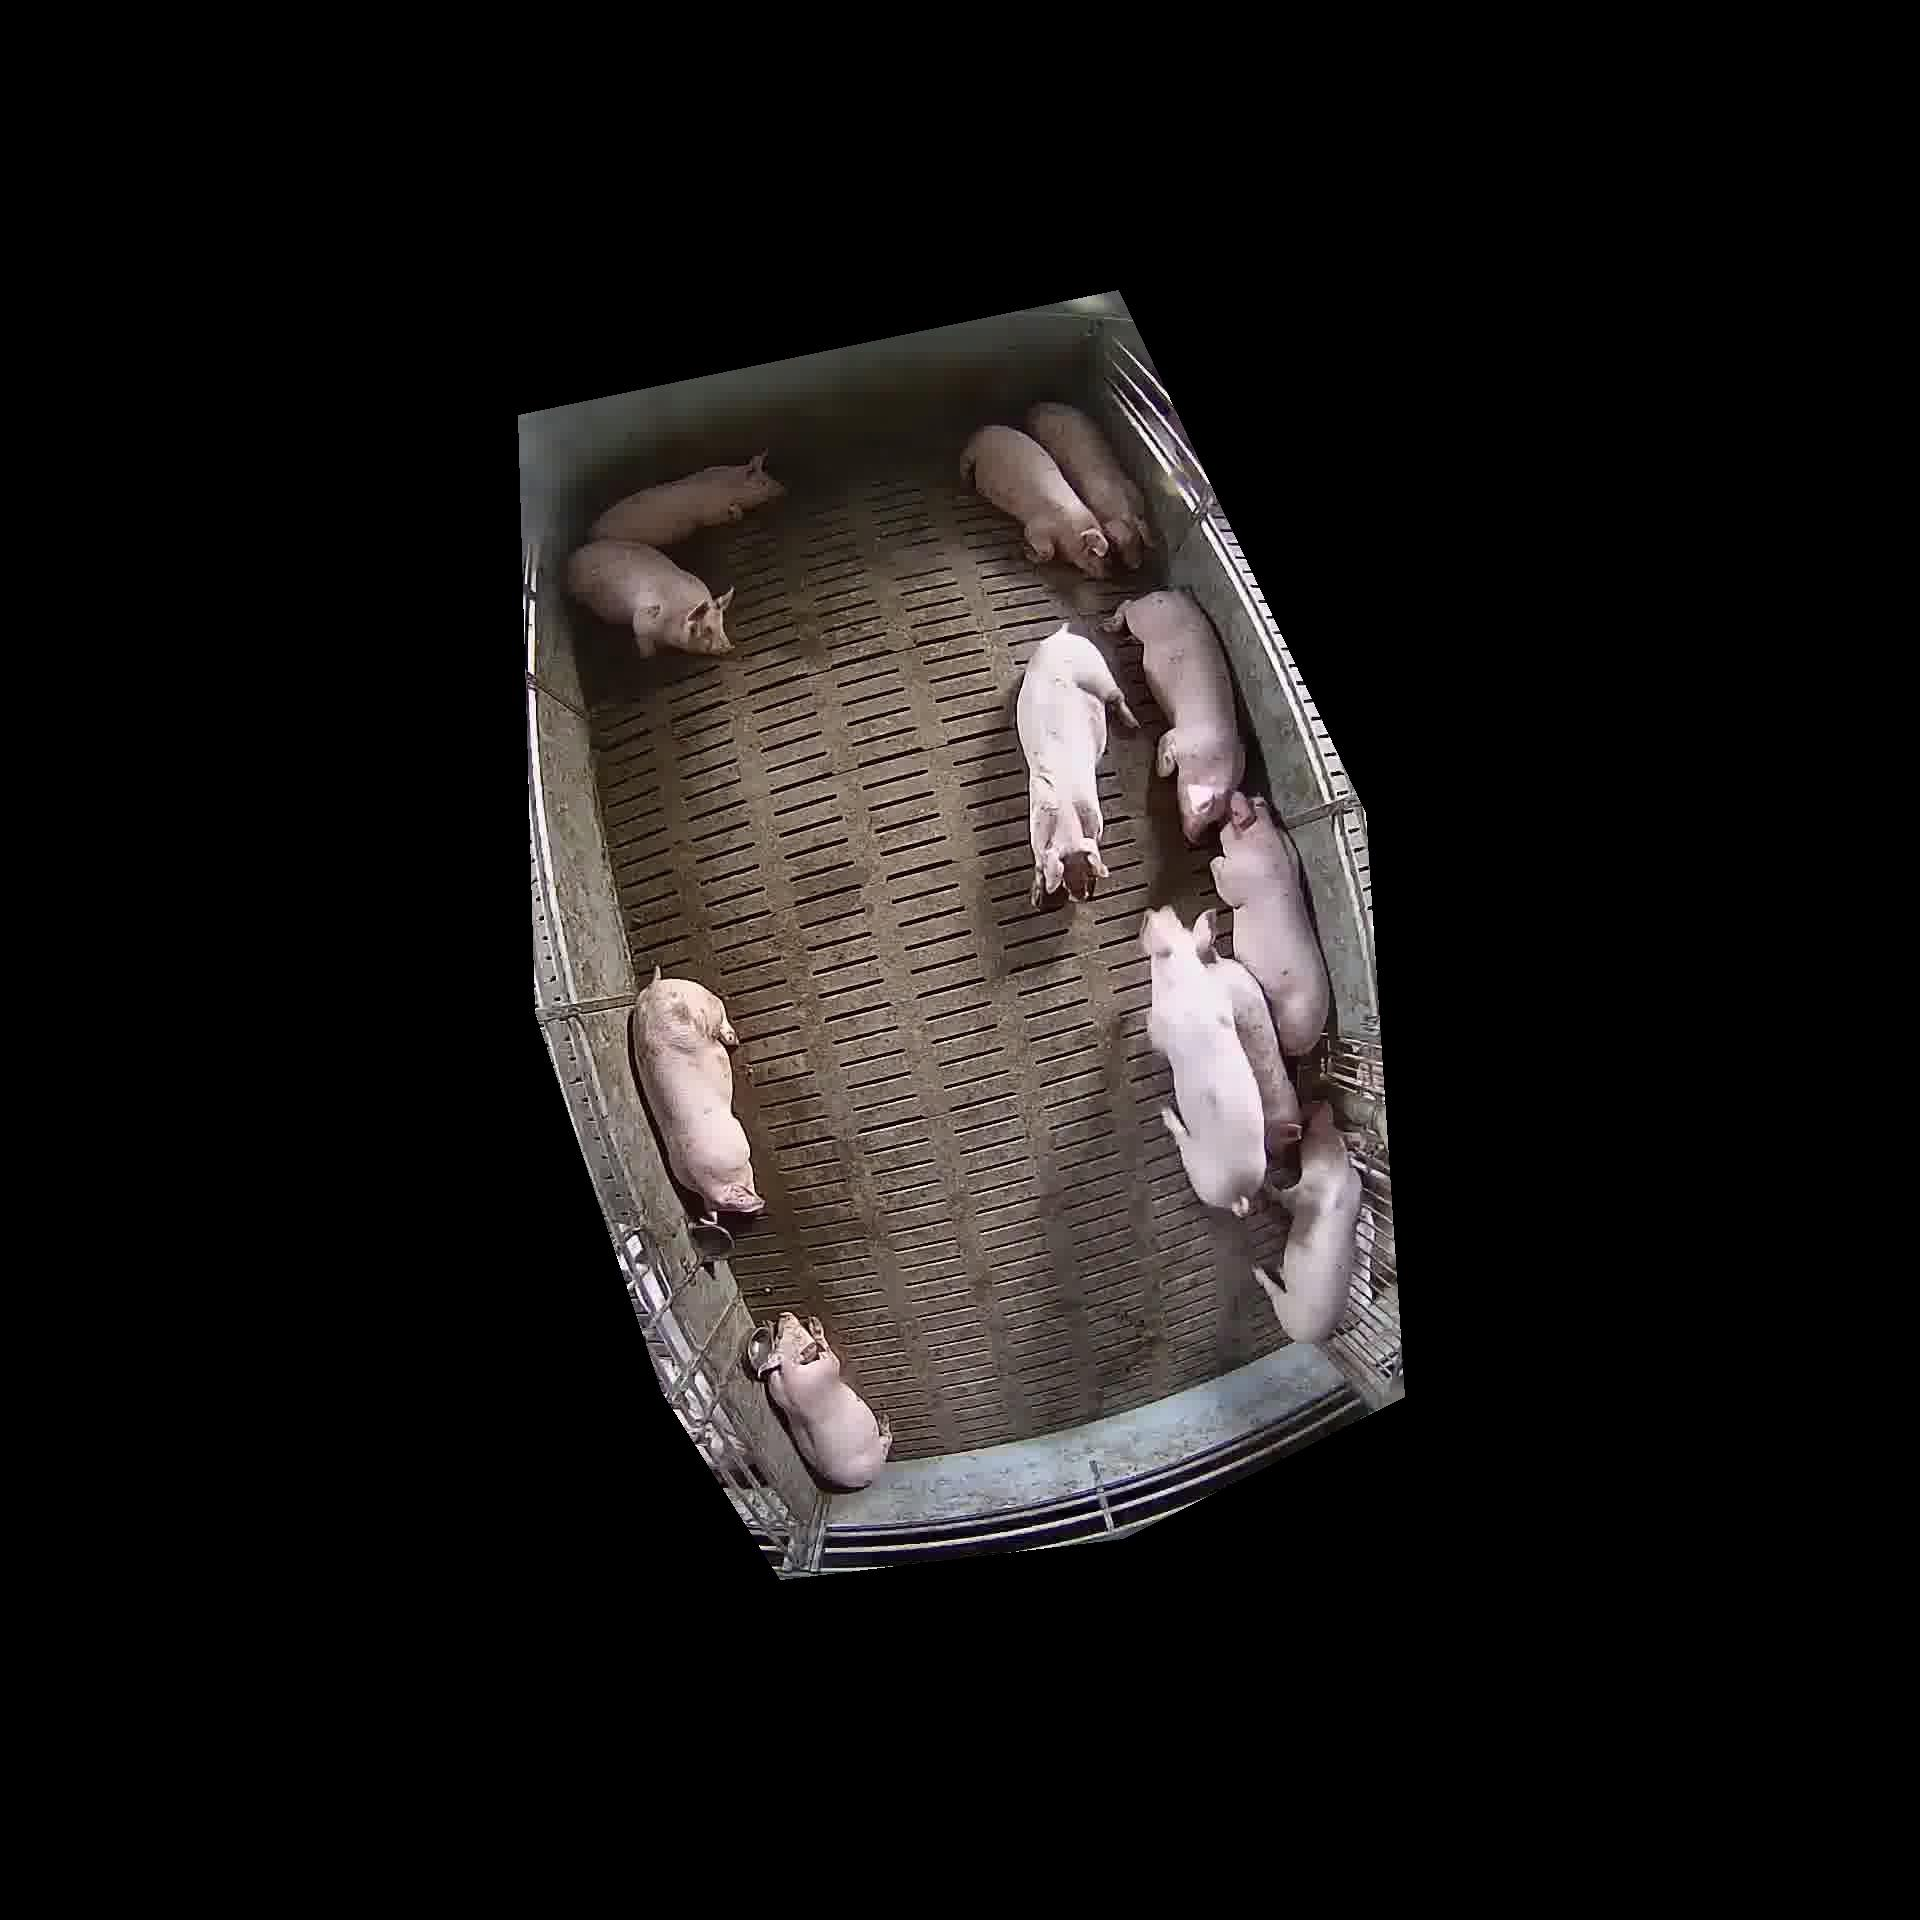pig: (1139, 905, 1266, 1213), (1109, 591, 1245, 844), (1016, 626, 1138, 905), (633, 972, 763, 1213), (1211, 791, 1329, 1055), (1255, 1102, 1361, 1343), (760, 1312, 890, 1487), (960, 425, 1108, 577), (1027, 403, 1150, 566), (1208, 948, 1301, 1153), (568, 540, 731, 656), (591, 454, 784, 547)
